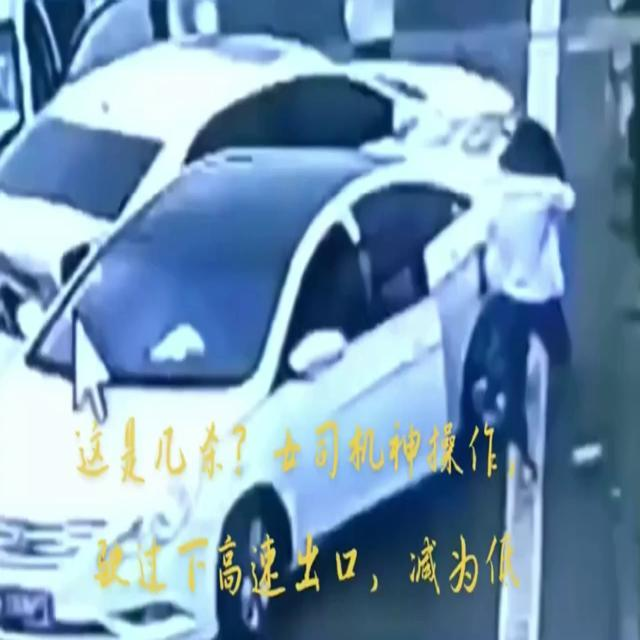multiple_accident: (0, 73, 604, 640)
